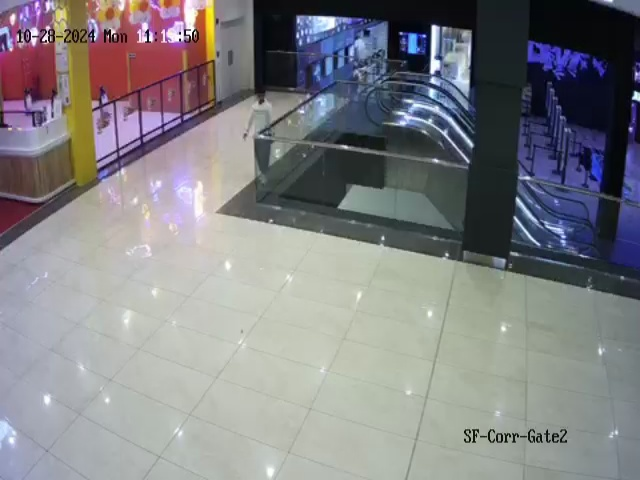male: (242, 88, 274, 187)
